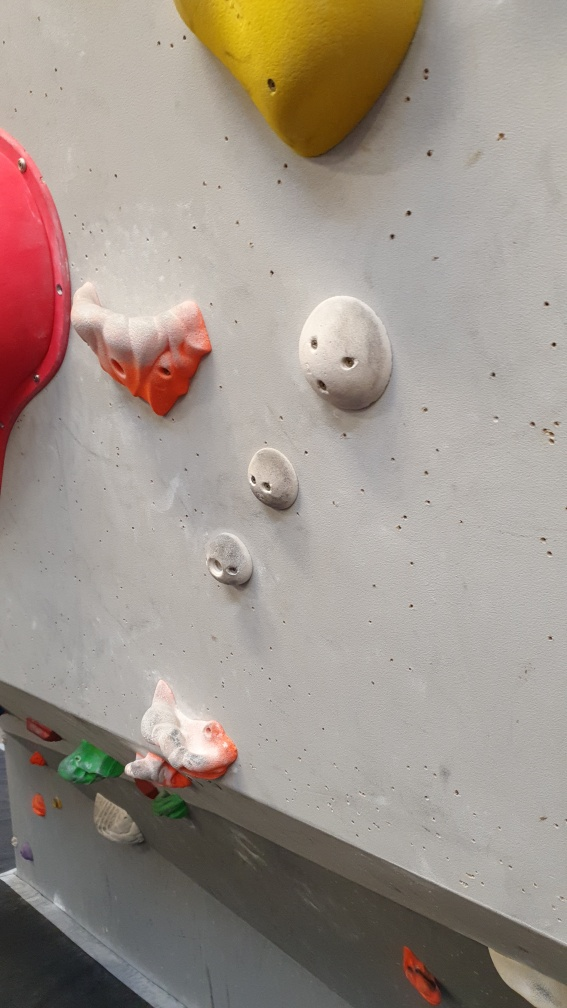Jug: (70, 274, 217, 419), (298, 296, 395, 415), (139, 680, 239, 785), (244, 444, 302, 517), (205, 530, 254, 590)
